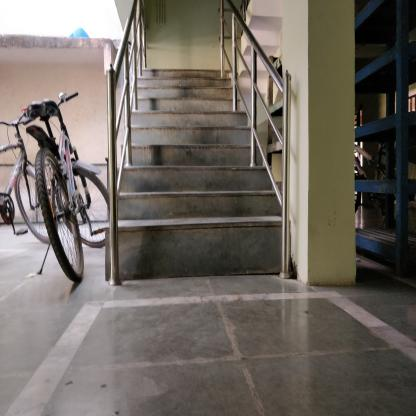stairs: (144, 68, 221, 285)
